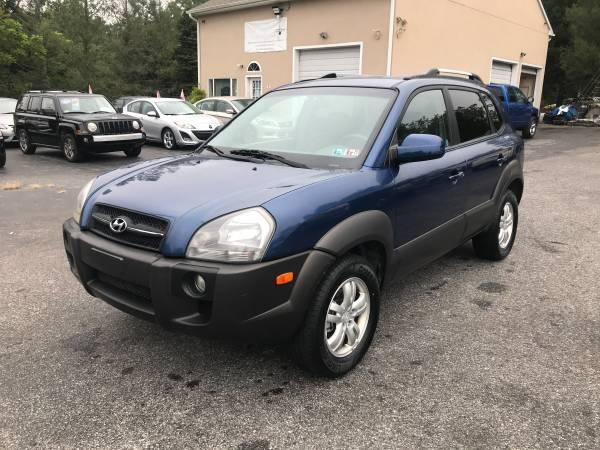Front_Bumper: (63, 217, 337, 344)
Front_Fender: (263, 164, 395, 285)
Front_Left_Door: (390, 141, 464, 281)
Front_Left_Window: (386, 88, 457, 168)
Front_Windshield: (195, 82, 396, 169)
Grille: (83, 202, 199, 259)
Hood: (90, 152, 357, 219)
Left_Headlight: (181, 204, 276, 266)
Rear_Fender: (501, 127, 526, 181)
Rear_Left_Door: (456, 133, 515, 242)
Rear_Left_Window: (444, 88, 507, 146)
Right_Headlight: (74, 175, 96, 223)
Roof: (278, 72, 510, 166)
Wheel: (304, 257, 386, 375), (493, 195, 521, 259)
